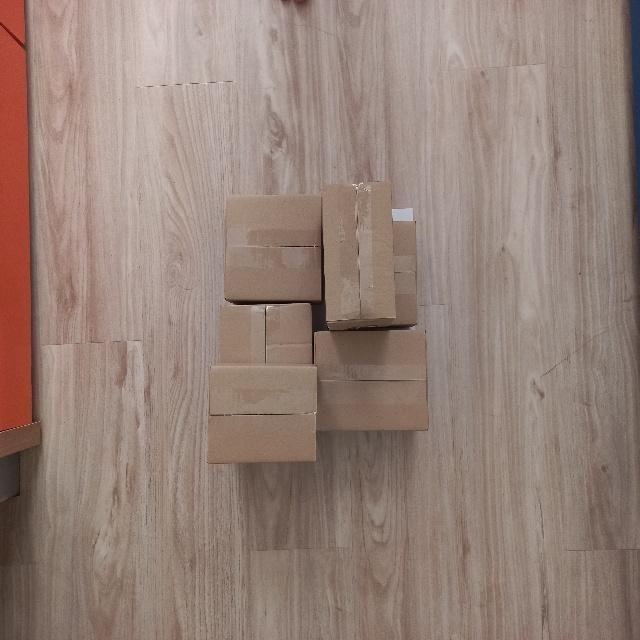box: (310, 330, 432, 434), (221, 192, 327, 304), (320, 182, 400, 330), (205, 365, 320, 466)
